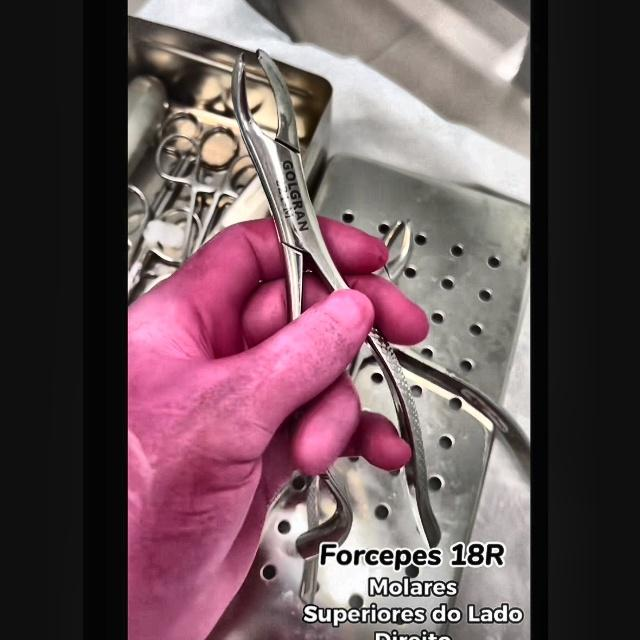forceps: (233, 51, 348, 323), (368, 332, 440, 548), (307, 477, 339, 533)
